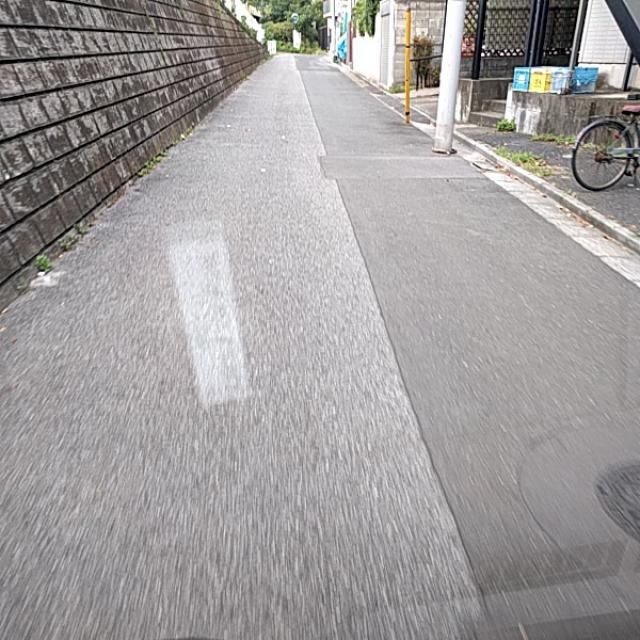pothole: (386, 348, 442, 442)
